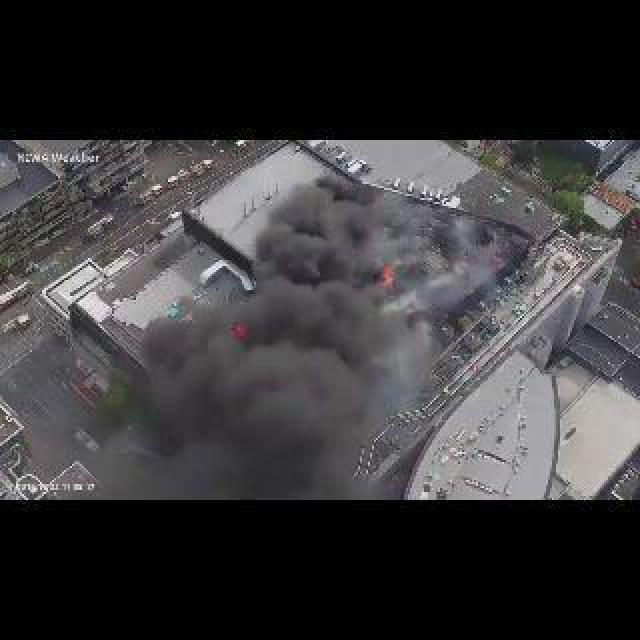Fire: (380, 268, 396, 288)
Smoke: (92, 178, 498, 500)
